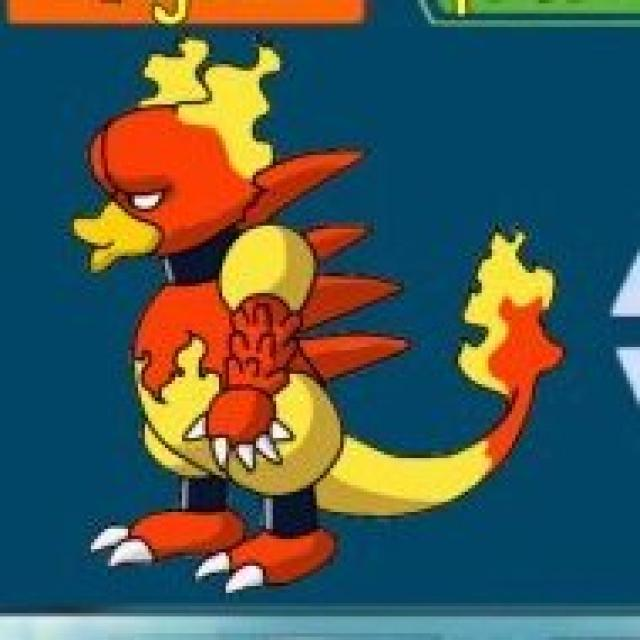Magmar: (75, 43, 545, 583)
